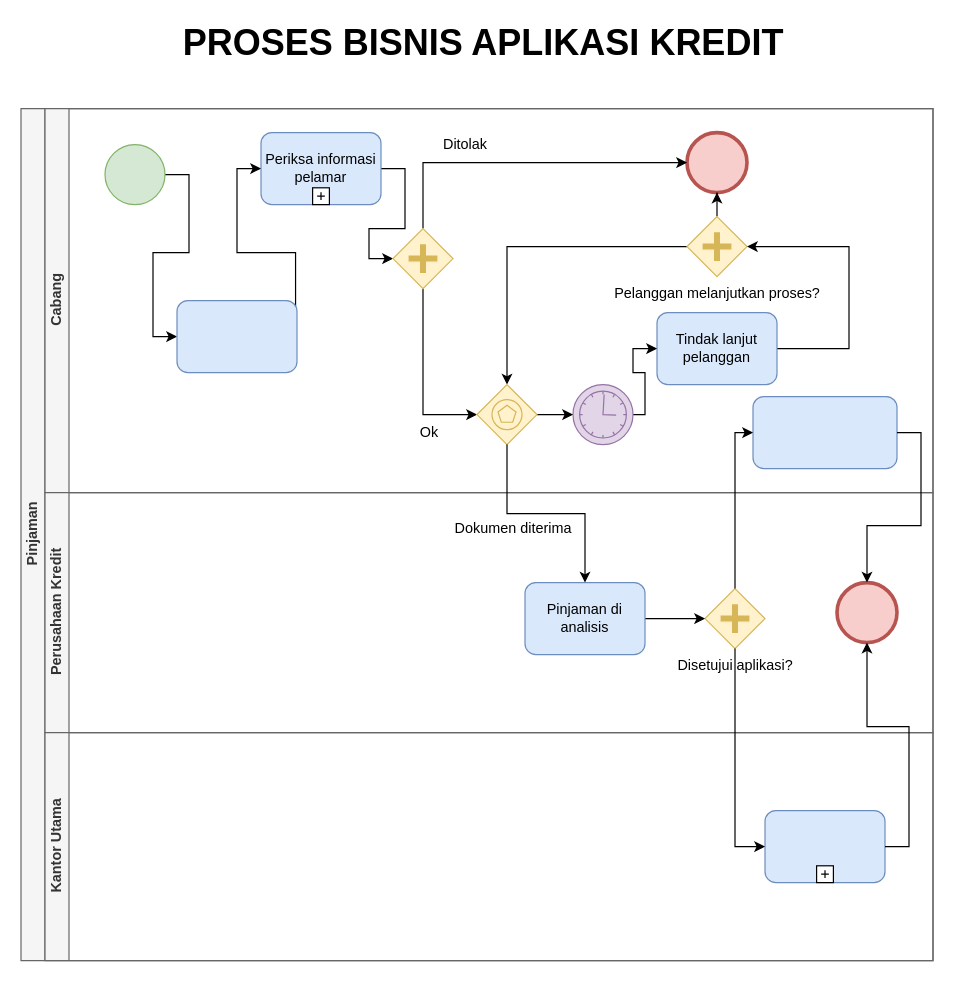
This 954x982 diagram has some shape labels left out. The shapes that lost their labels are listed below. From the top down, each one's box as (x1, y1, x2, y2) in pixels, then its label:
(392, 227, 453, 289): Cek hasil?
(176, 299, 297, 373): Mencatat informasi aplikasi pinjaman
(752, 395, 897, 469): Menginformasikan hasil kepada pelanggan
(764, 809, 885, 883): Pembayaran
